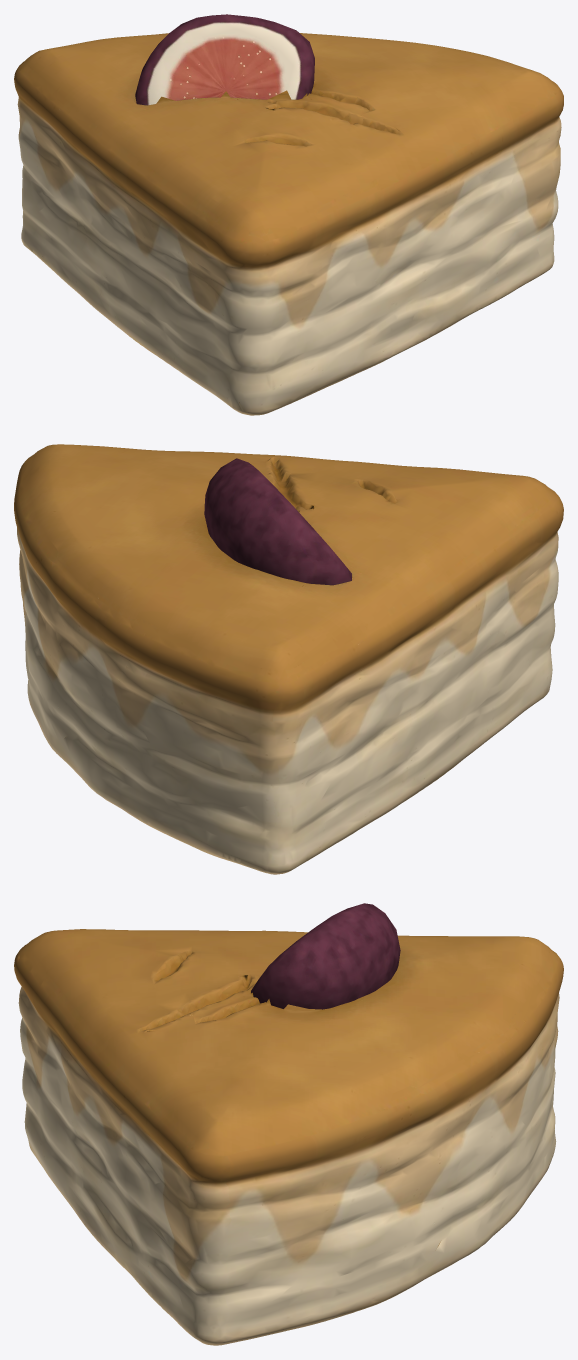
The model's file is scone--fig-fresh.glb.
The picture shows the model from 3 angles, top to bottom: view 1: azimuth 30°, elevation 25°; view 2: azimuth 150°, elevation 25°; view 3: azimuth 270°, elevation 25°; orthographic projection. The views are drawn at different scales.
Parts seen in each view (by area): view 1: scone_fig-fresh; view 2: scone_fig-fresh; view 3: scone_fig-fresh.
Part boxes in pixels (left/top/right/bottom): scone_fig-fresh: left=14, top=14, right=563, bottom=415; scone_fig-fresh: left=14, top=444, right=563, bottom=874; scone_fig-fresh: left=14, top=903, right=563, bottom=1345.
Size of the model in its own units: 0.9346 by 0.5886 by 0.9825.
Materials: 1 (1 with a texture image).
